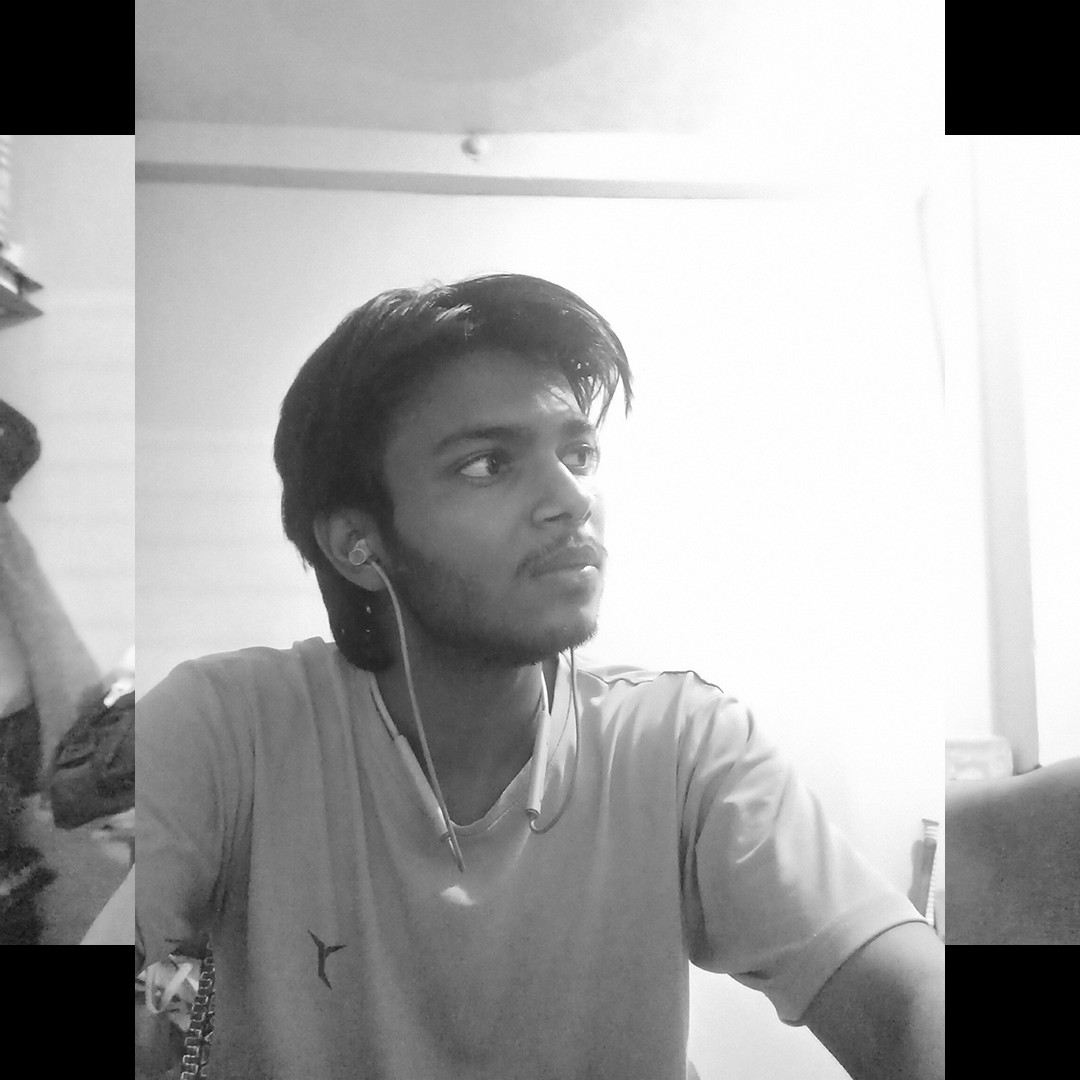distracted: (208, 119, 684, 837)
